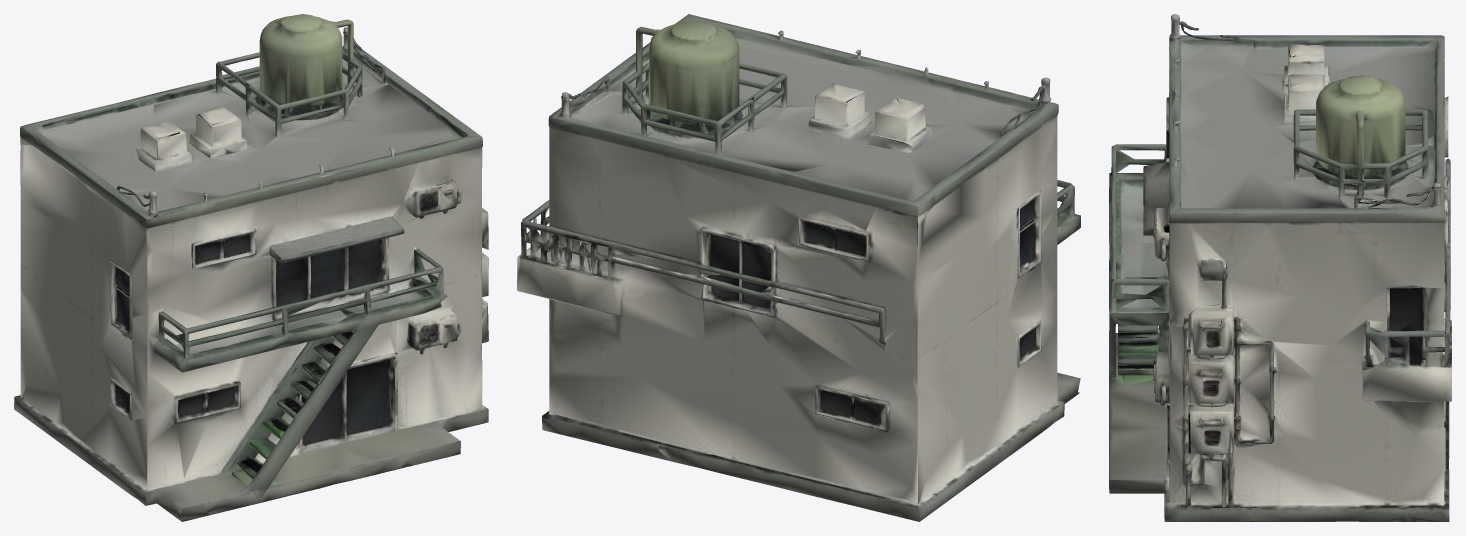
File: building6.glb
3 renders of one model, left to right at view 1: azimuth 30°, elevation 25°; view 2: azimuth 150°, elevation 25°; view 3: azimuth 270°, elevation 25°, orthographic. The views are drawn at different scales.
Visible parts, largest first — view 1: lo; view 2: lo; view 3: lo.
Part boxes in pixels (x1,y1,x2,y2): lo: [14, 14, 488, 521]; lo: [517, 14, 1080, 521]; lo: [1109, 14, 1451, 521].
Bounding box in the file's own units: 0.9998 × 0.9365 × 0.7531.
1 material, 1 textured.
